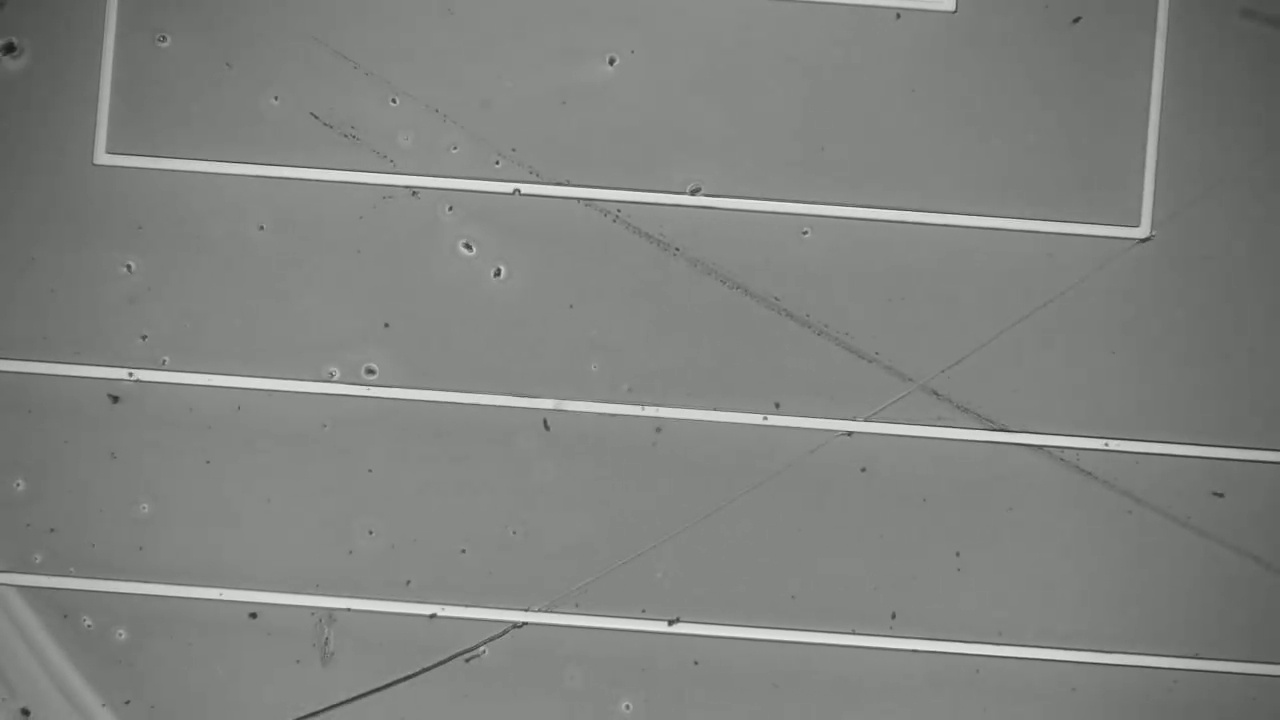edge_bite: (505, 178, 532, 202)
scratch: (312, 33, 1275, 564), (527, 243, 1144, 611), (293, 622, 517, 720)
stains_enbedded: (658, 610, 696, 639)
